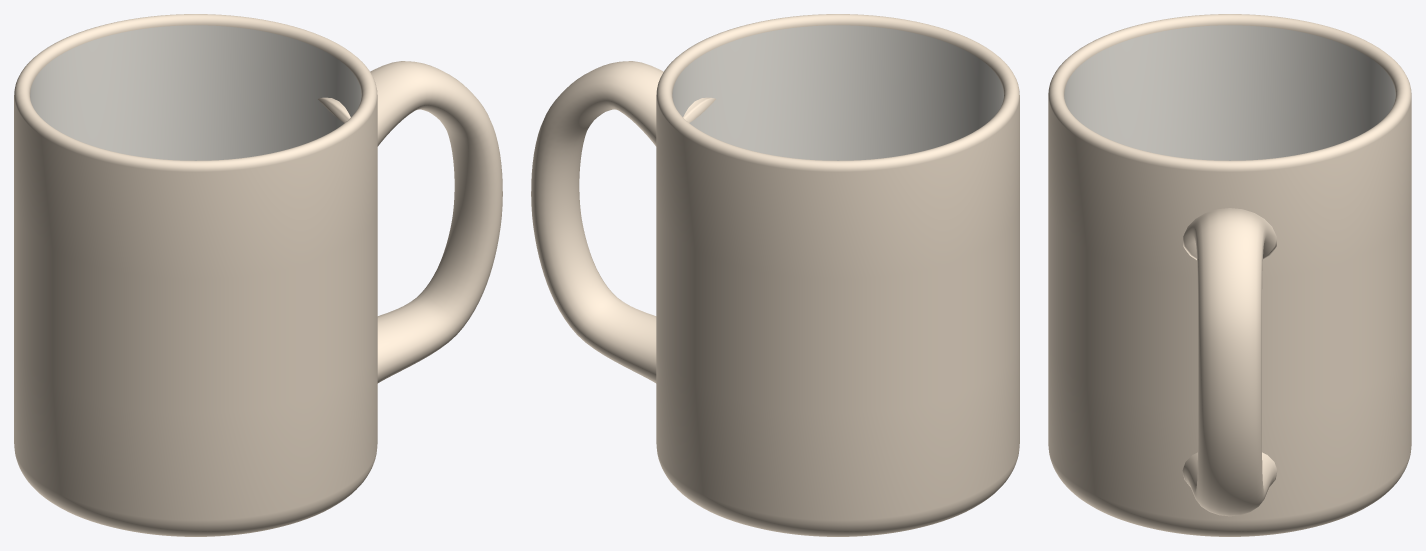
The model's file is mug.glb.
3 renders of one model, left to right at view 1: azimuth 30°, elevation 25°; view 2: azimuth 150°, elevation 25°; view 3: azimuth 270°, elevation 25°, orthographic.
Visible parts, largest first — view 1: mug_body, mug_handle; view 2: mug_body, mug_handle; view 3: mug_body, mug_handle.
Boxes of the visible parts, x1,y1,x2,y2 form: mug_body: (14, 14, 377, 536); mug_handle: (318, 61, 502, 383); mug_body: (656, 14, 1019, 536); mug_handle: (531, 61, 715, 383); mug_body: (1048, 14, 1411, 536); mug_handle: (1182, 208, 1277, 516).
Bounding box in the file's own units: 0.1195 × 0.095 × 0.082.
